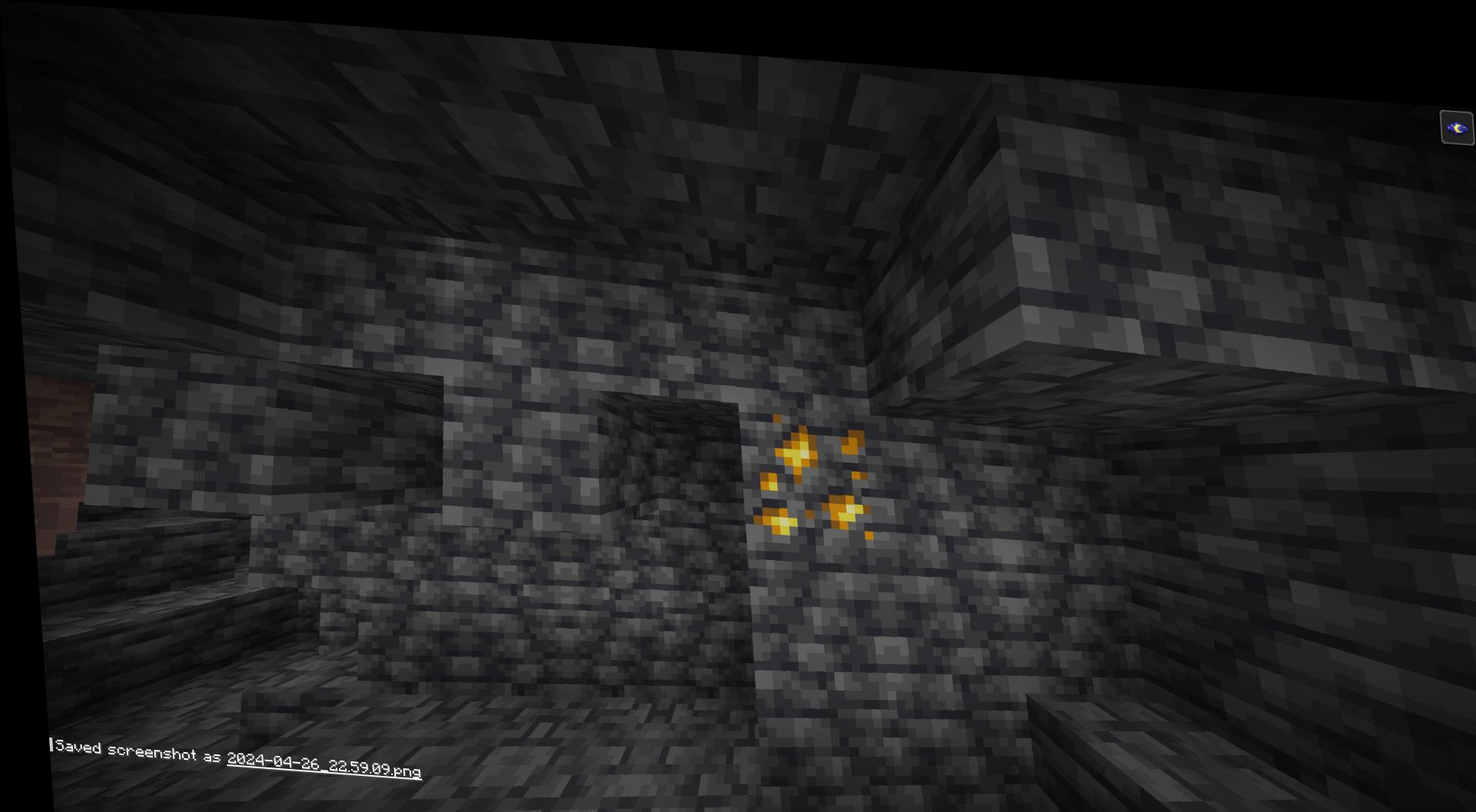gold ore: (738, 397, 881, 541)
